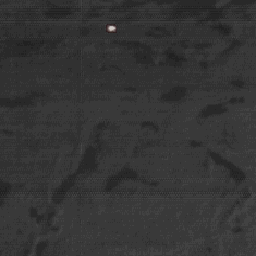Target: (106, 25, 116, 32)
